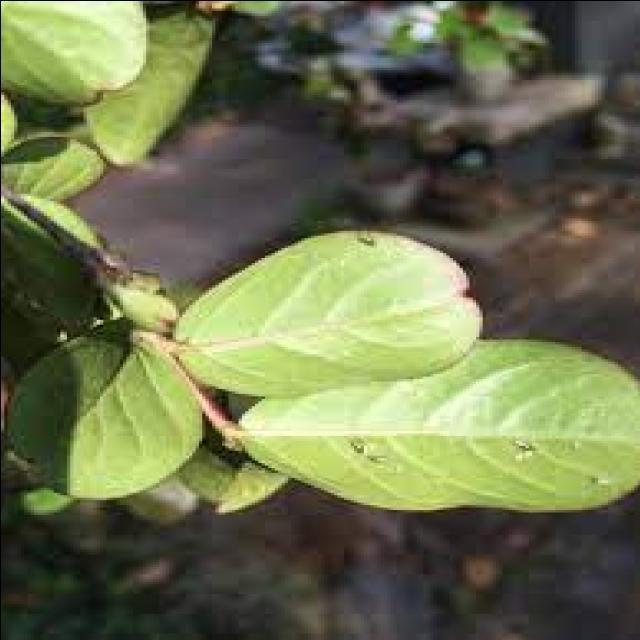aphid: (346, 222, 379, 250), (340, 432, 376, 454), (578, 467, 614, 487), (504, 432, 538, 450), (360, 447, 390, 467), (504, 444, 524, 462), (518, 442, 534, 462)
